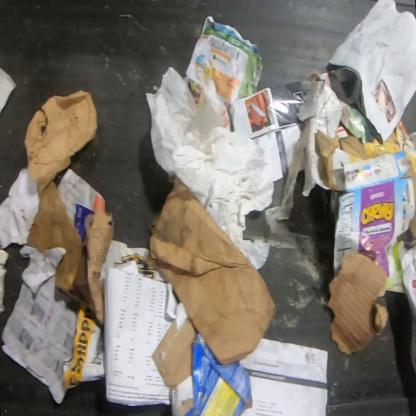cardboard: (146, 182, 278, 366), (23, 88, 99, 292), (228, 78, 344, 182), (333, 149, 415, 276), (150, 317, 253, 415), (314, 118, 412, 194), (326, 252, 390, 356), (317, 66, 383, 144), (74, 209, 115, 325)
soft_plastic: (144, 65, 232, 178), (262, 119, 313, 238)
